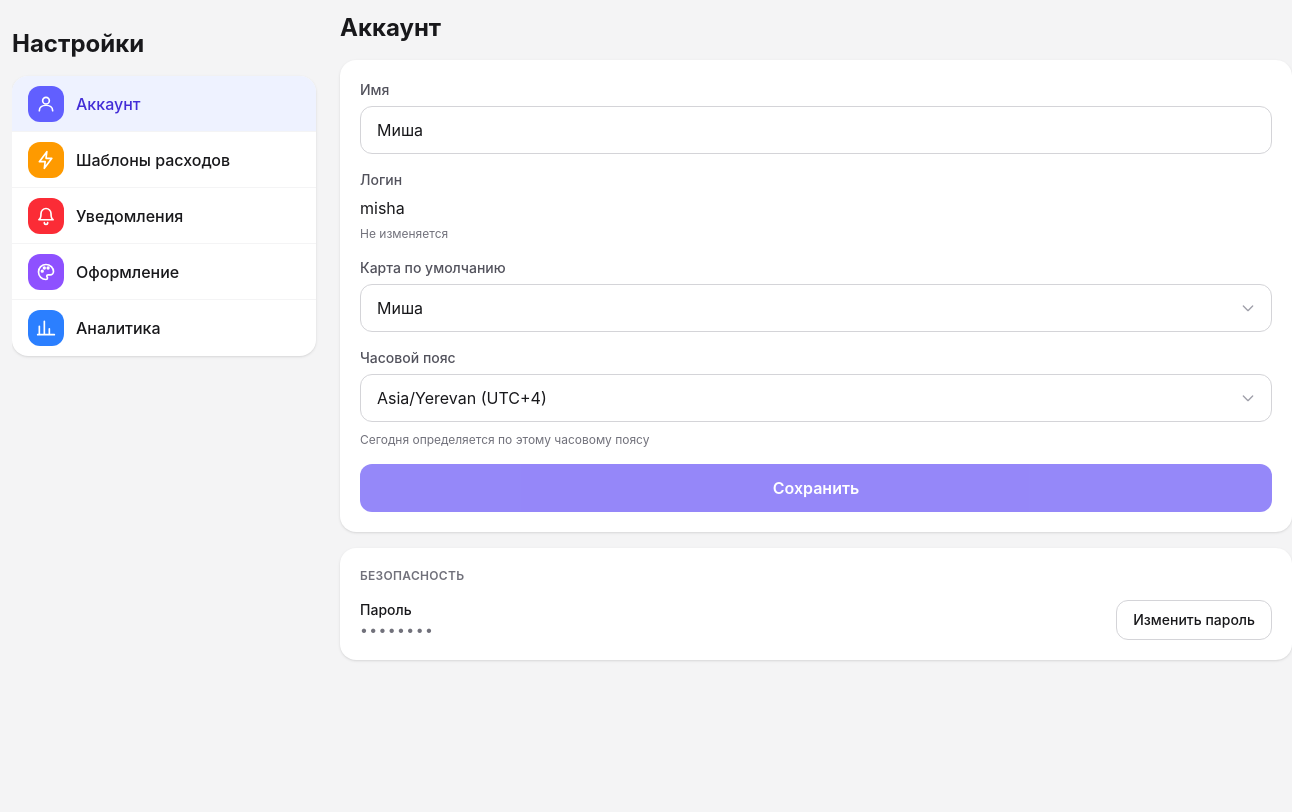
Test: аккаунт › ошибка сервера показывается, значения в полях остаются
expect the heading "Аккаунт" is shown: met, box [340, 13, 441, 42]
Type "!" into the field labelled "Имя".
click(816, 130); type("!")  # box [360, 106, 1272, 154]
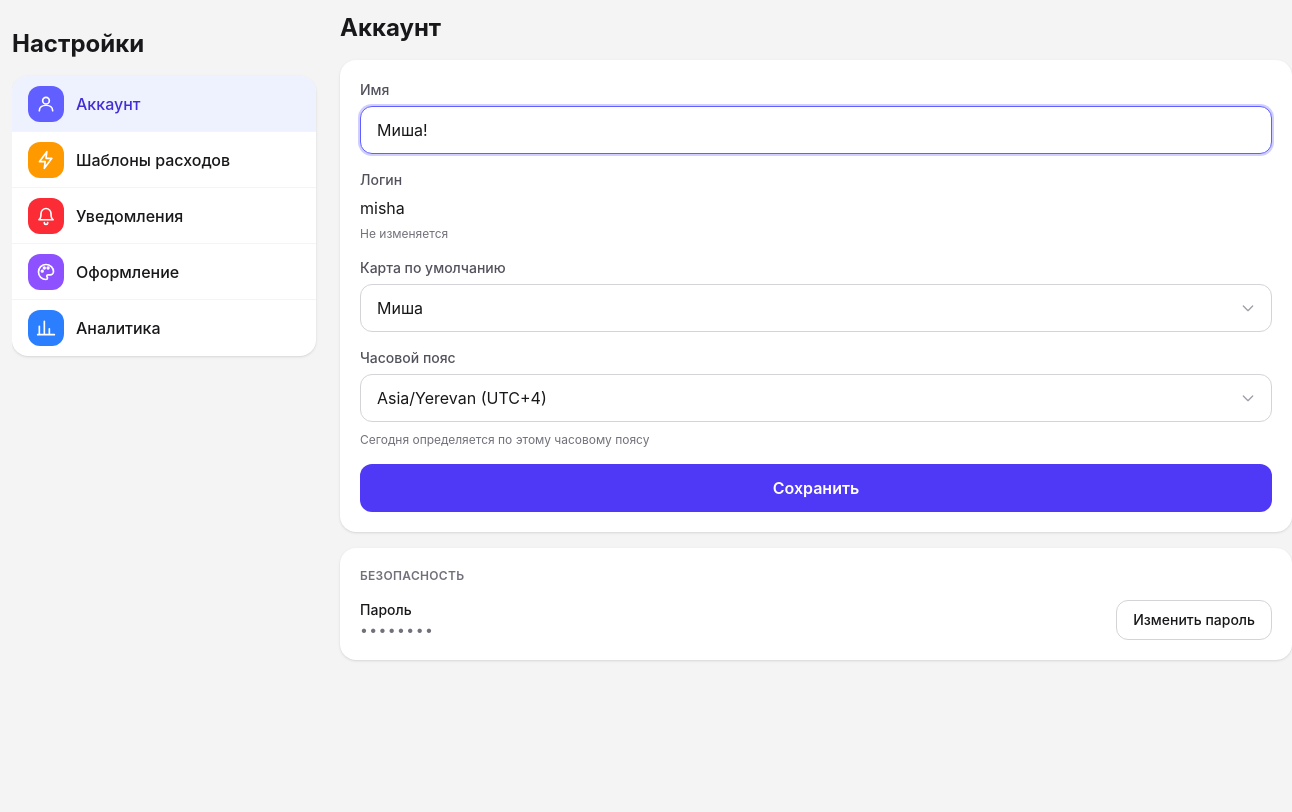
Click the button "Сохранить".
click(816, 488)  # box [360, 464, 1272, 512]
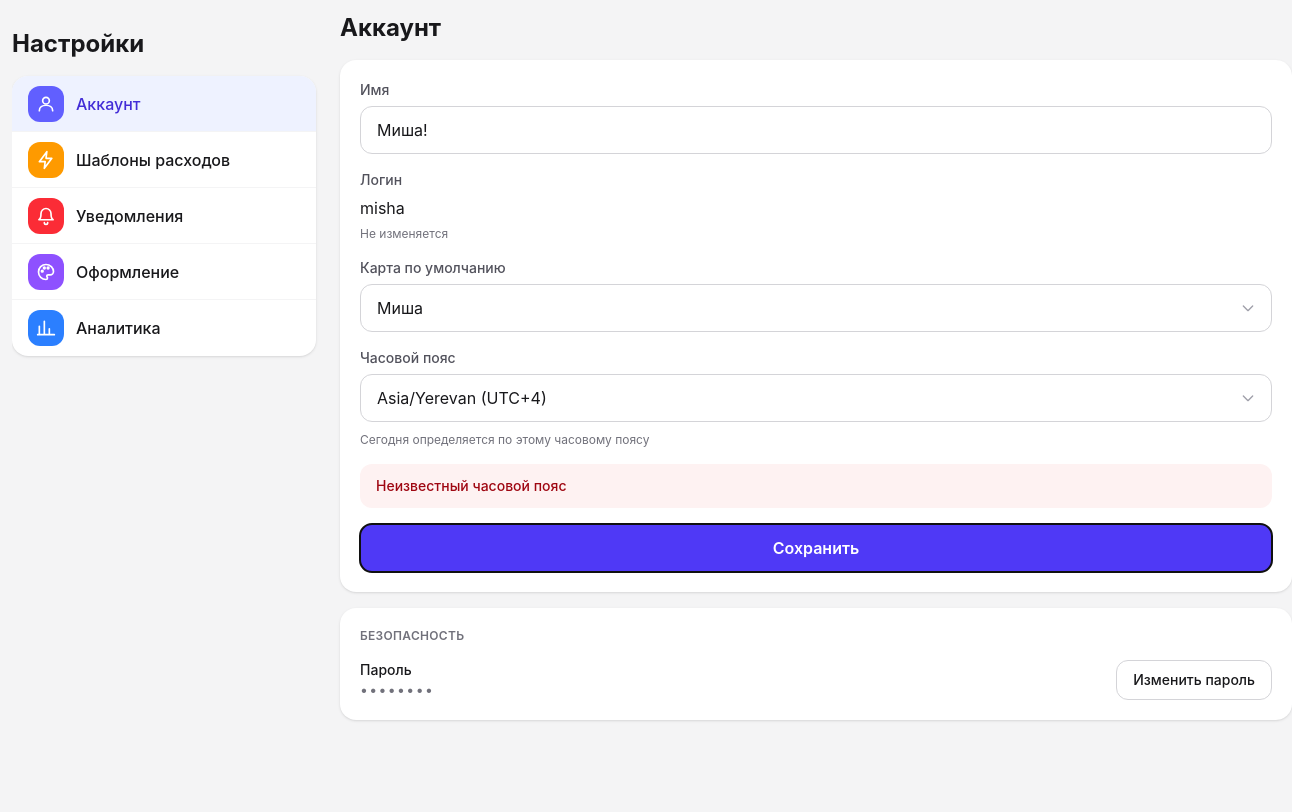
expect the field labelled "Имя" holds "Миша!": met, box [360, 106, 1272, 154]
expect the message reads "Неизвестный часовой пояс": met, box [376, 477, 566, 494]
